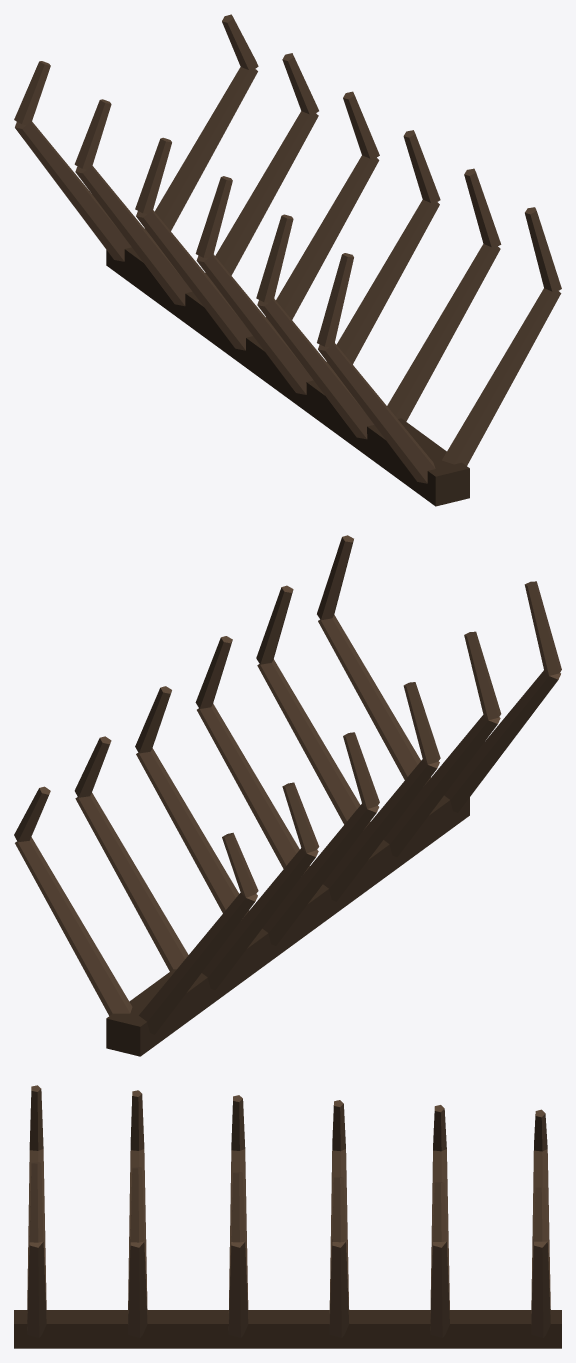
File: s3_wreck_ribs.glb
3 views of the same model, one above another, from view 1: azimuth 30°, elevation 25°; view 2: azimuth 150°, elevation 25°; view 3: azimuth 270°, elevation 25° (orthographic). The views are drawn at different scales.
Visible parts, largest first — view 1: s3_wreck_ribs; view 2: s3_wreck_ribs; view 3: s3_wreck_ribs.
Boxes of the visible parts, box(x1,y1,x2,y2) form: s3_wreck_ribs: box(14, 14, 561, 506); s3_wreck_ribs: box(14, 535, 561, 1056); s3_wreck_ribs: box(14, 1085, 561, 1348).
Bounding box in the file's own units: 2.13 × 2.19 × 5.
